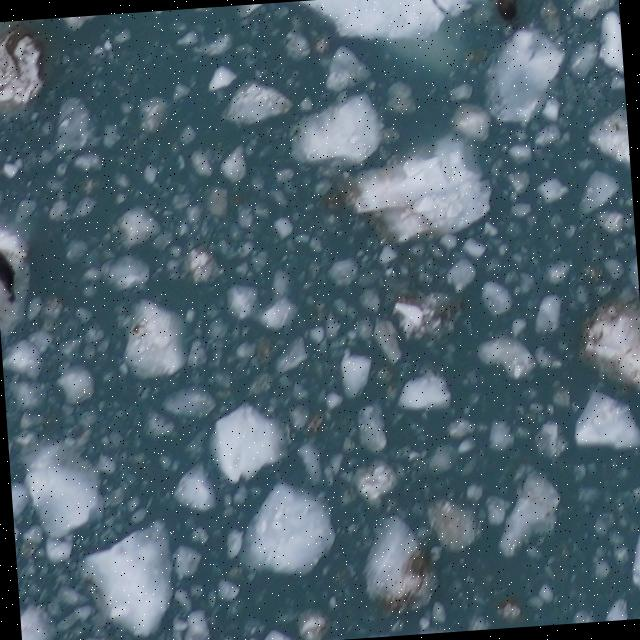seal: (0, 241, 23, 308)
